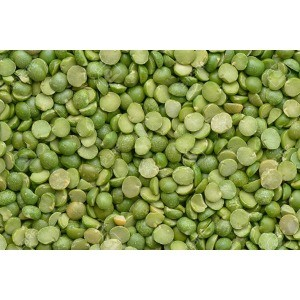green pea_brain food: (101, 107, 189, 196)
